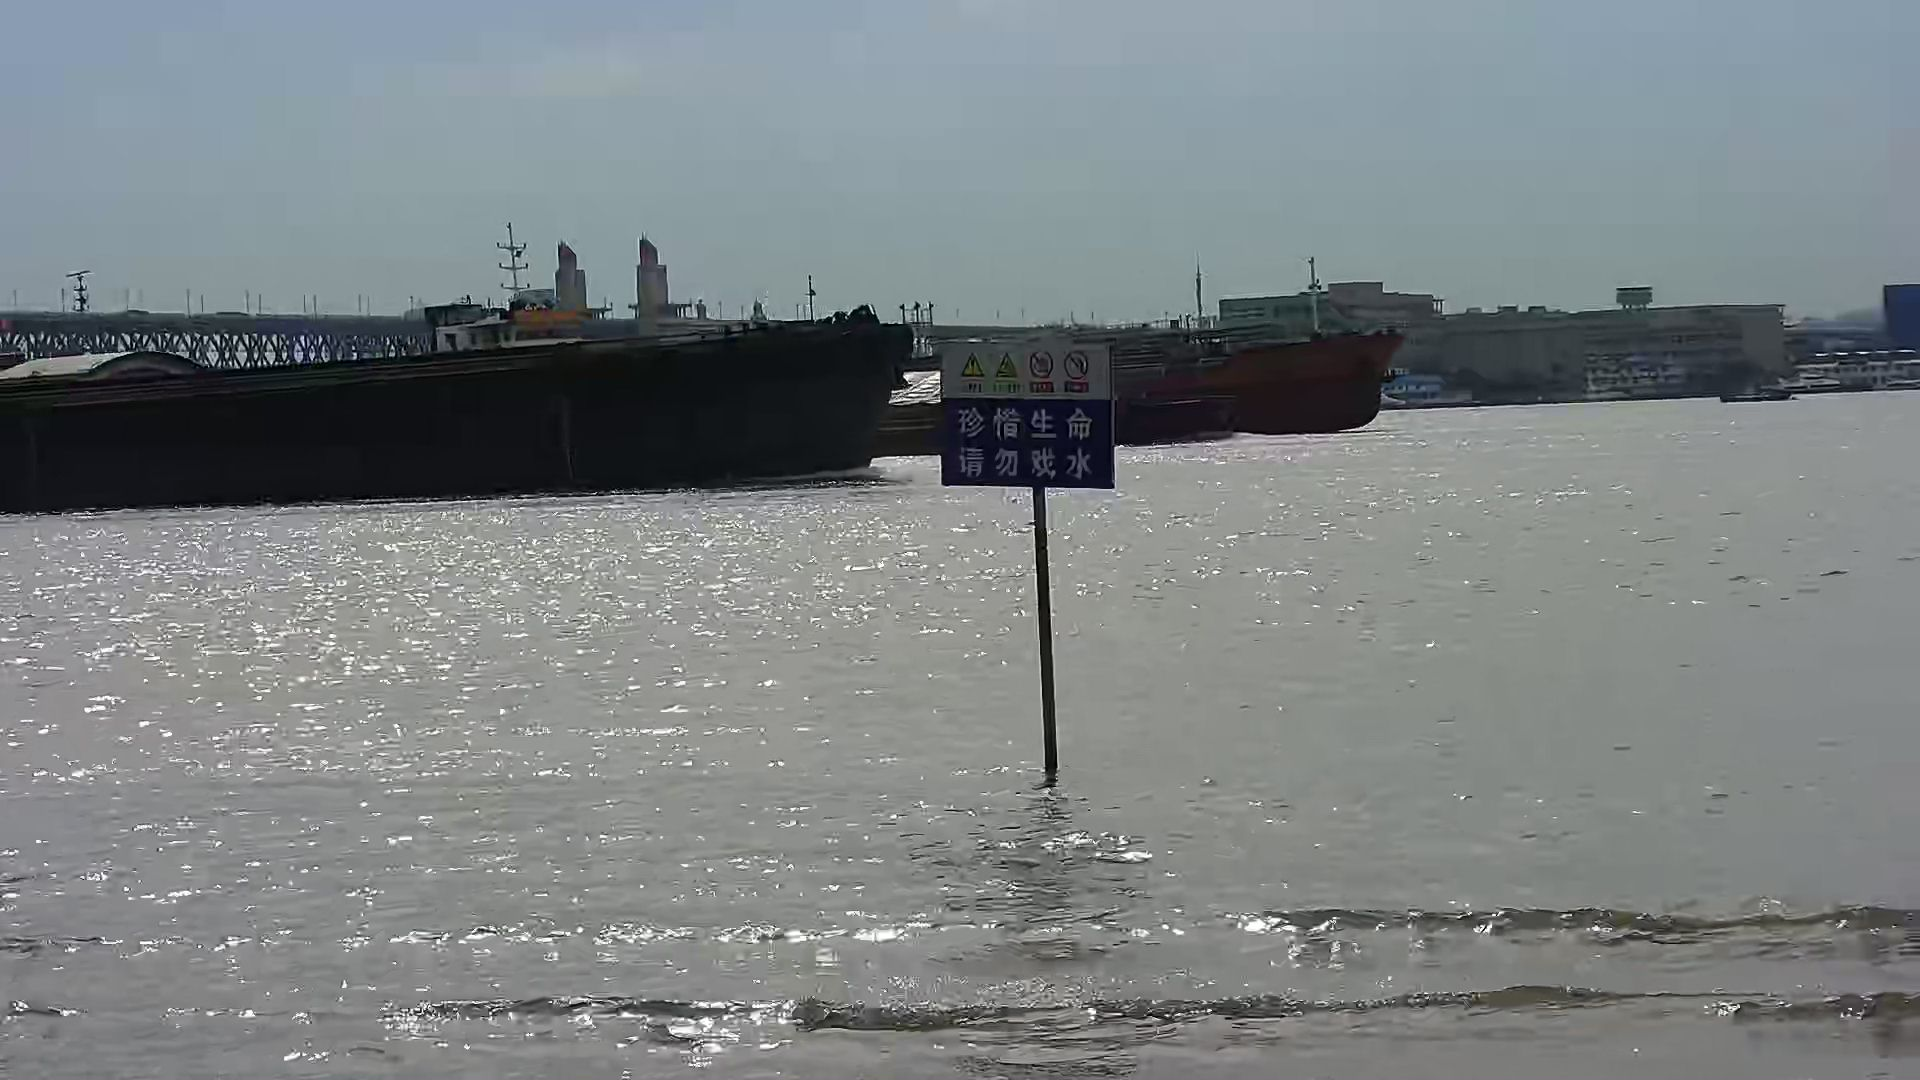boat: (1720, 388, 1788, 404)
bridge: (1, 298, 630, 363)
mast: (942, 342, 1112, 782)
ship: (1, 313, 913, 512), (1112, 326, 1412, 438), (869, 367, 1221, 458)
